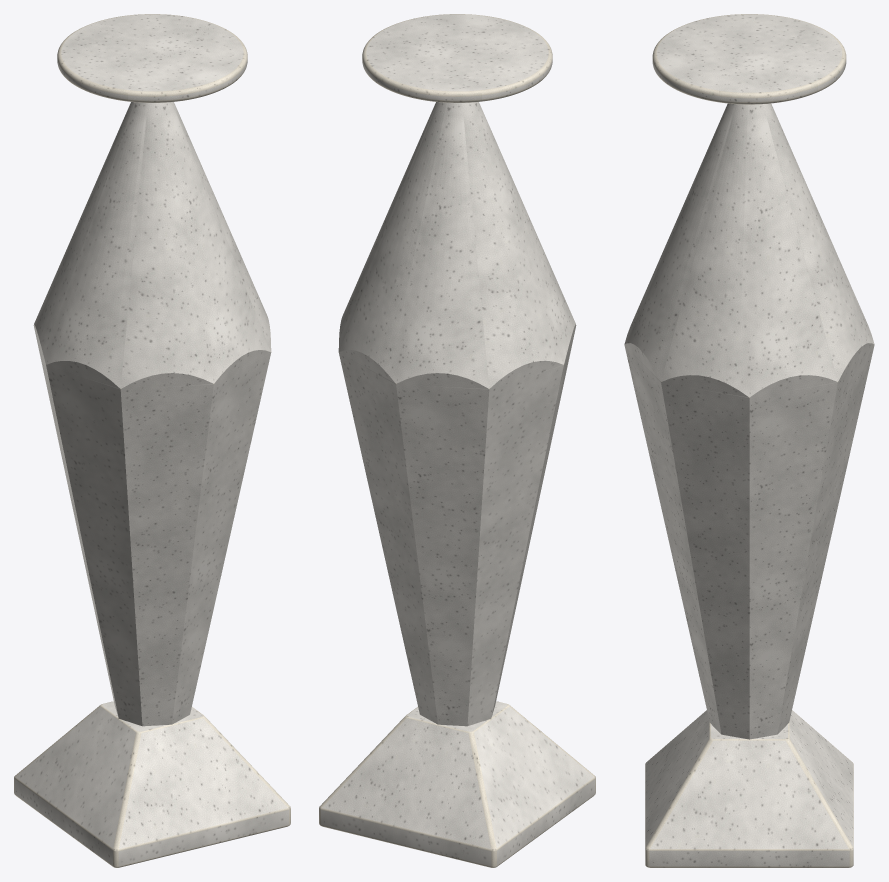
Rendered from queen-white-hd.glb.
The picture shows the model from 3 angles, left to right: view 1: azimuth 30°, elevation 25°; view 2: azimuth 150°, elevation 25°; view 3: azimuth 270°, elevation 25°; orthographic projection.
Visible parts, largest first — view 1: queen_white; view 2: queen_white; view 3: queen_white.
Boxes of the visible parts, x1=… form: queen_white: x1=14, y1=14, x2=290, y2=867; queen_white: x1=319, y1=14, x2=595, y2=867; queen_white: x1=624, y1=14, x2=874, y2=867.
Size of the model in its own units: 0.4408 by 1.5 by 0.4408.
Materials: 2 (2 with a texture image).
